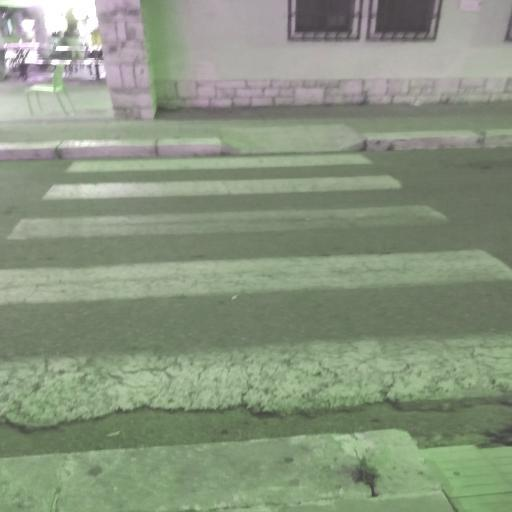crosswalk: (3, 172, 461, 247)
